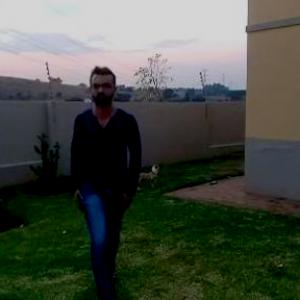follow: (73, 63, 147, 299)
